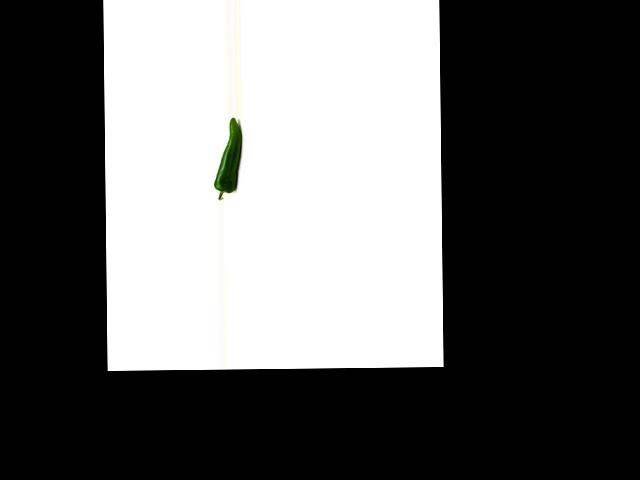bell_pepper: (211, 117, 244, 203)
